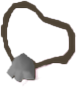necklace: (1, 1, 77, 87)
